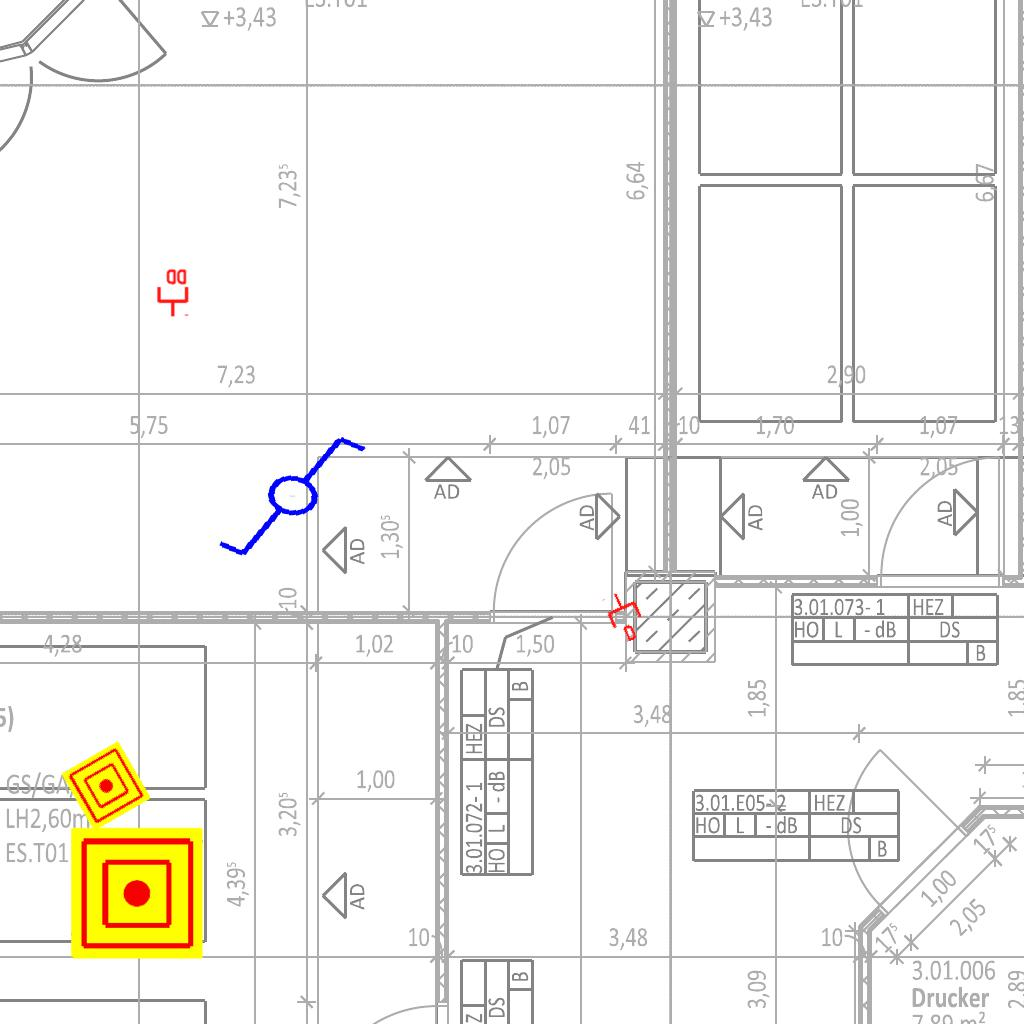Datenanschluss_einfach: (599, 586, 651, 646)
Datenanschluss_zweifach: (155, 267, 189, 318)
NAM-Nichtautomatischer_Melder: (71, 827, 203, 959), (60, 740, 152, 832)
Wechselschalter: (212, 416, 389, 582)
